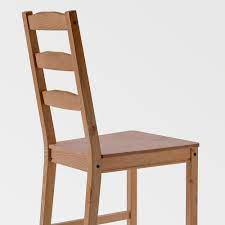chair: (16, 7, 211, 217)
